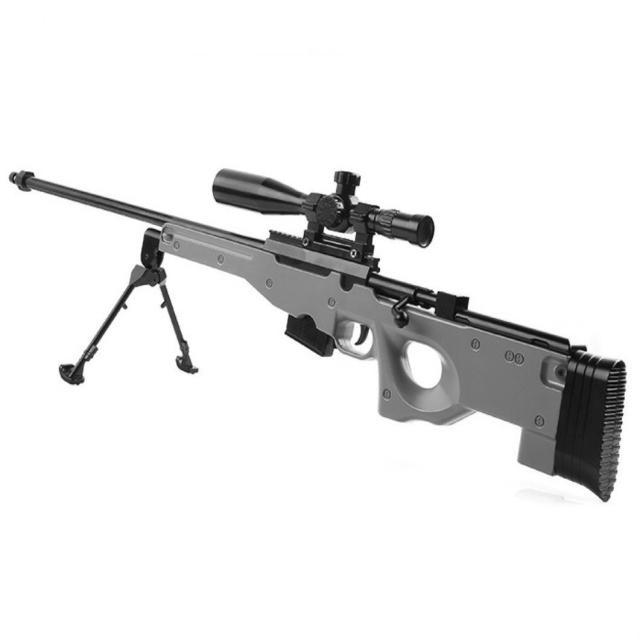Sniper: (8, 142, 630, 548), (10, 169, 625, 501)
